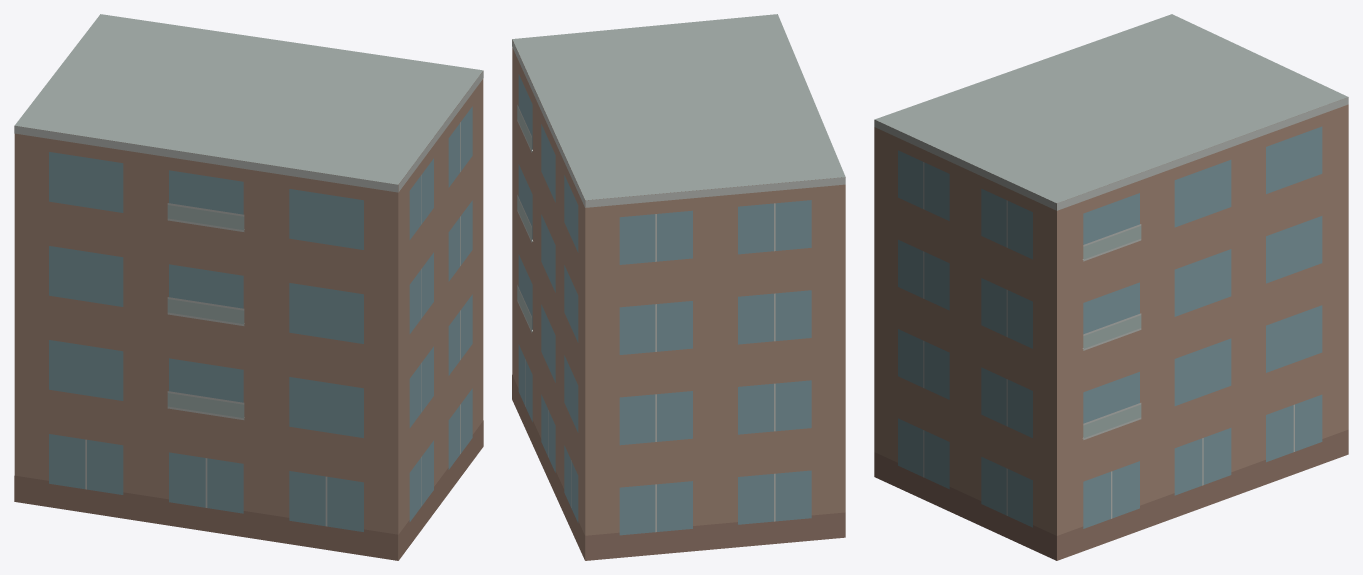
Rendered from survey-upis-32626307.glb.
3 views of the same model, side by side, from view 1: azimuth 30°, elevation 25°; view 2: azimuth 150°, elevation 25°; view 3: azimuth 270°, elevation 25° (orthographic). The views are drawn at different scales.
Parts seen in each view (by area): view 1: survey-upis-32626307.tmp; view 2: survey-upis-32626307.tmp; view 3: survey-upis-32626307.tmp.
Part boxes in pixels (<box>): survey-upis-32626307.tmp: <box>14,14,483,560</box>; survey-upis-32626307.tmp: <box>512,14,845,560</box>; survey-upis-32626307.tmp: <box>874,14,1348,560</box>.
Size of the model in its own units: 13.3 by 11.7 by 14.07.
